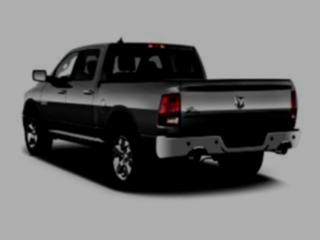ram: (233, 93, 250, 112)
